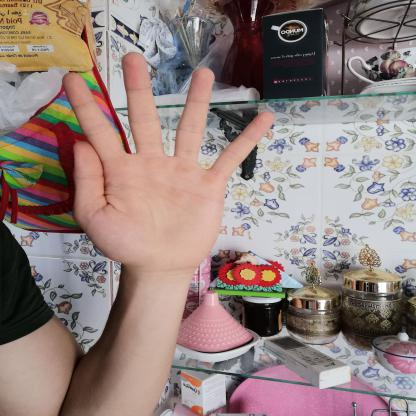SHEEN: (50, 43, 286, 280)
